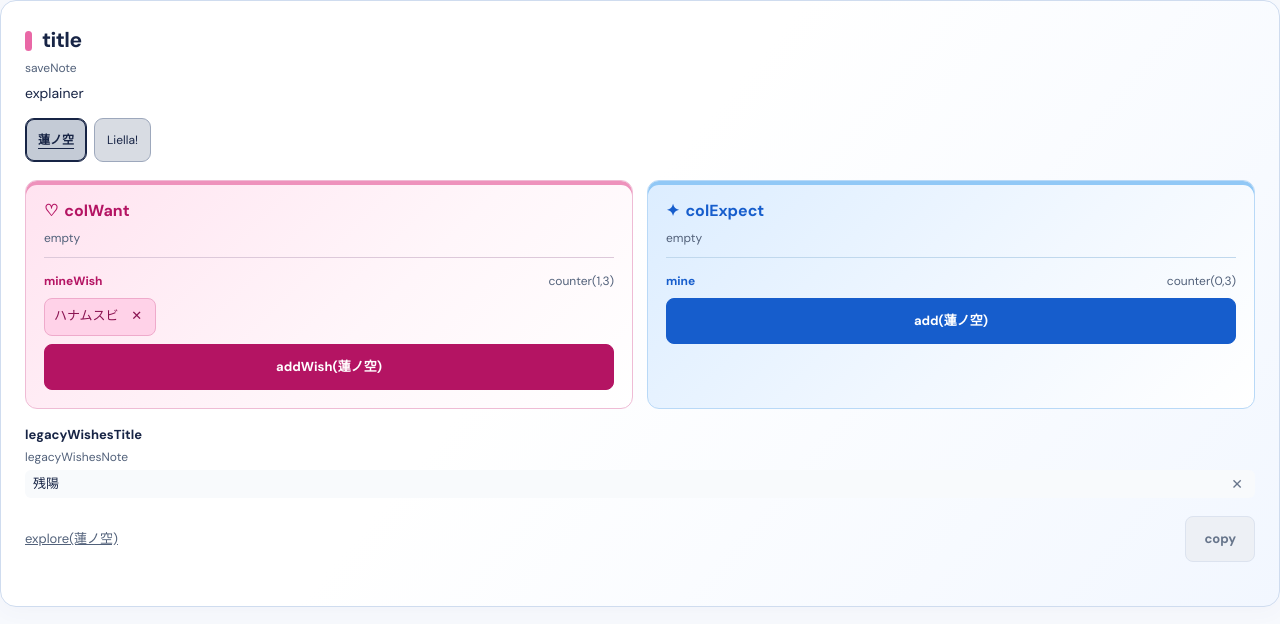
Test case: <FanBoardSection> want column › legacy wishes: listed apart, never counted toward a group's 3, removable, never re-posted
Expected: the number of list items with test id "board-legacy-wish" is 1, [25,470,1255,498]
Expected: the text "残陽" is shown, [33,475,59,492]
Click the button named "removeAria(残陽)": x=1237, y=484 [1227,477,1247,491]
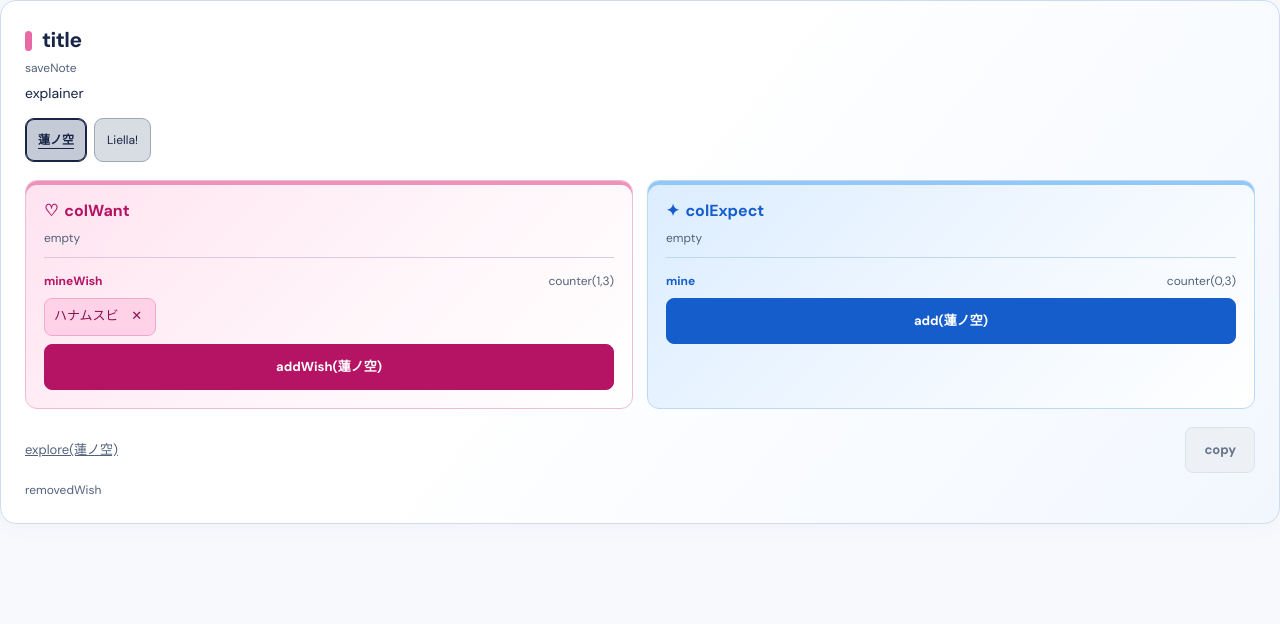
Result: the element with test id "board-legacy-wishes" is gone
